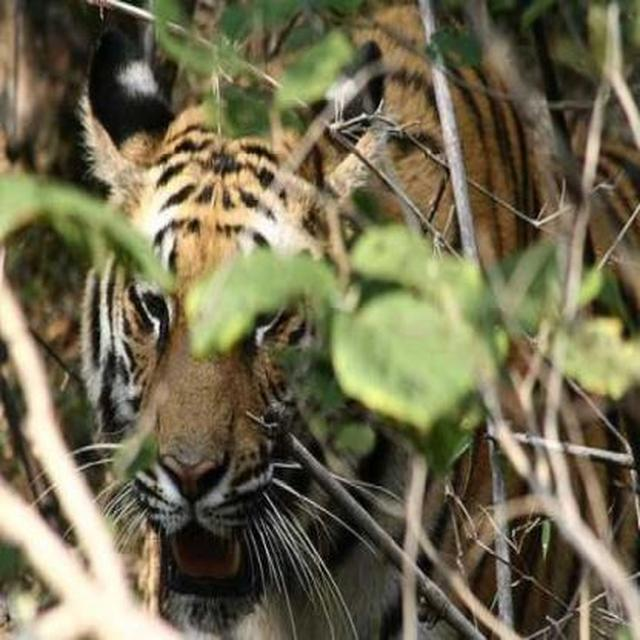tiger: (69, 0, 639, 639)
